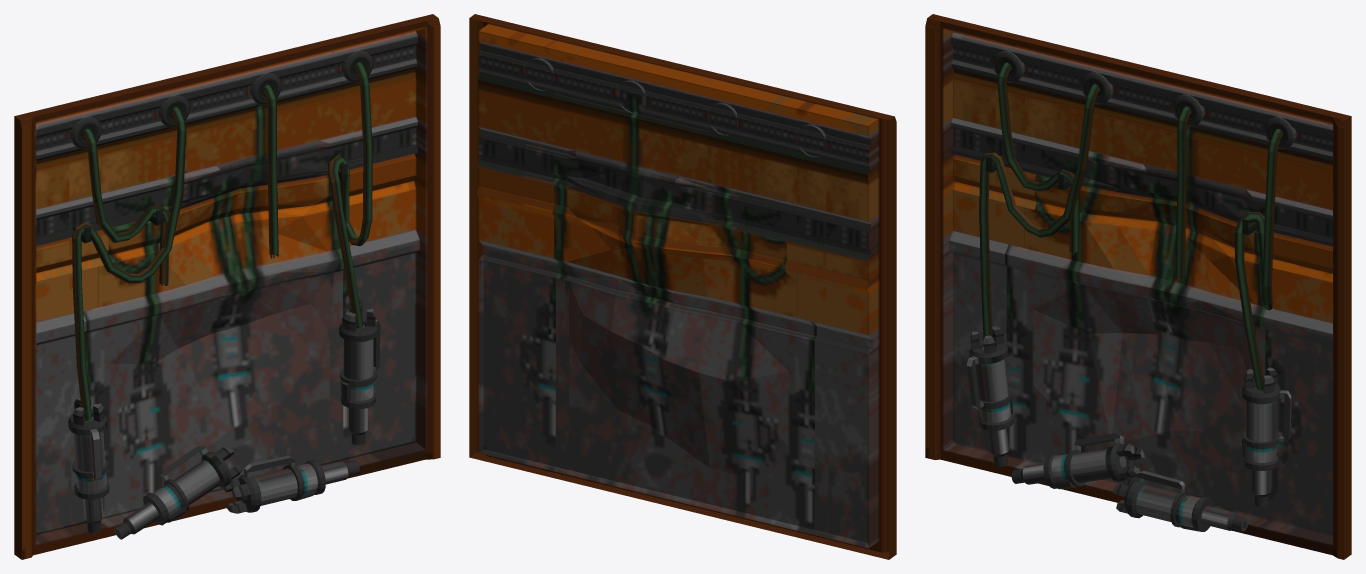
The model's file is maint1_4d.fbx.
The picture shows the model from 3 angles, left to right: view 1: azimuth 30°, elevation 25°; view 2: azimuth 150°, elevation 25°; view 3: azimuth 330°, elevation 25°; orthographic projection.
Visible parts, largest first — view 1: maint1_4, maint1_4d; view 2: maint1_4, maint1_4d; view 3: maint1_4, maint1_4d.
Part boxes in pixels (bbox=[...]): maint1_4: bbox=[14, 14, 440, 559]; maint1_4d: bbox=[20, 67, 440, 521]; maint1_4: bbox=[469, 14, 896, 559]; maint1_4d: bbox=[477, 76, 816, 529]; maint1_4: bbox=[925, 14, 1351, 559]; maint1_4d: bbox=[925, 18, 1343, 559].
Size of the model in its own units: 256 by 256 by 42.03.
